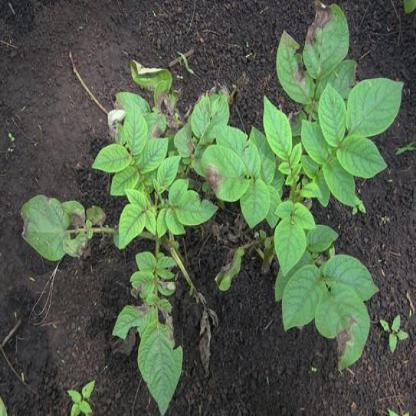potato leaf late blight: (301, 1, 351, 85), (199, 140, 251, 204)
